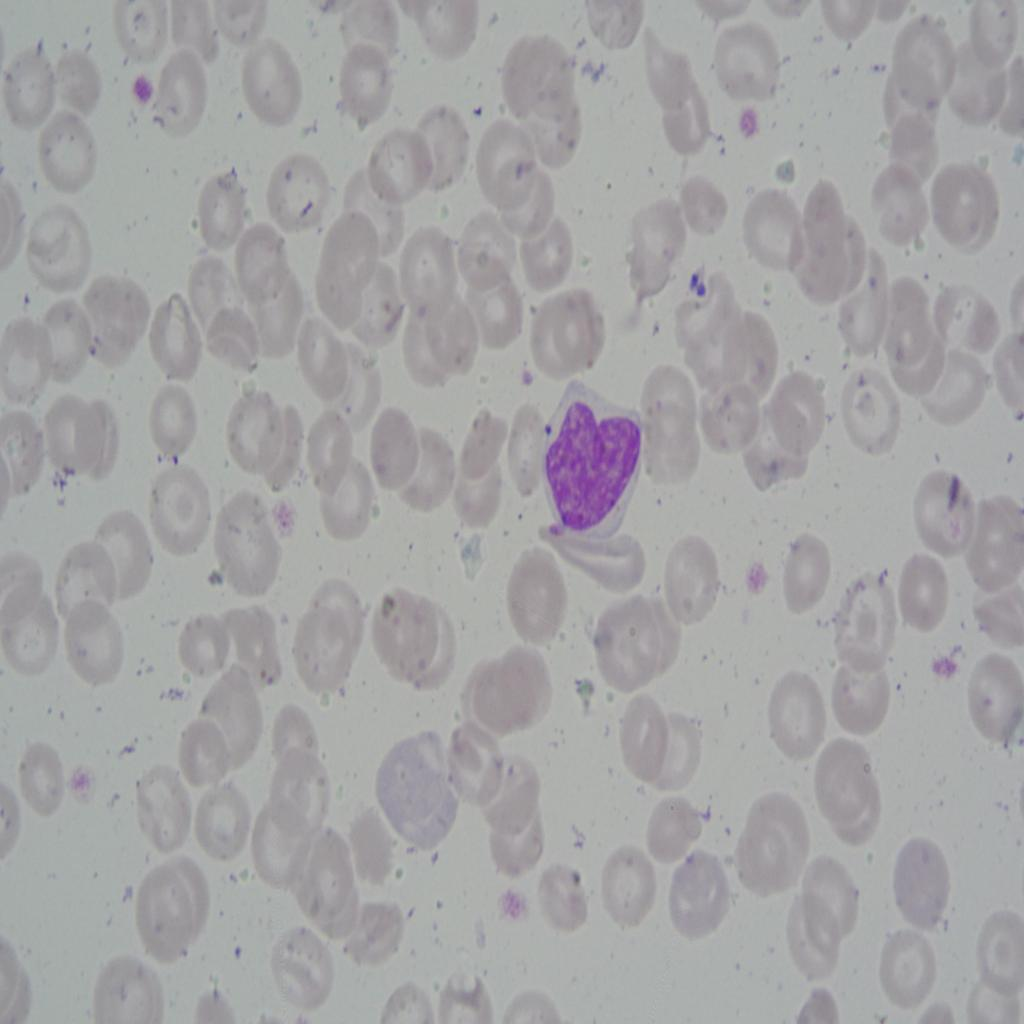Myeoblast: (544, 379, 641, 551)
Platelet: (107, 66, 159, 117), (682, 262, 713, 311), (737, 101, 761, 148), (200, 562, 222, 600), (748, 564, 769, 603)
